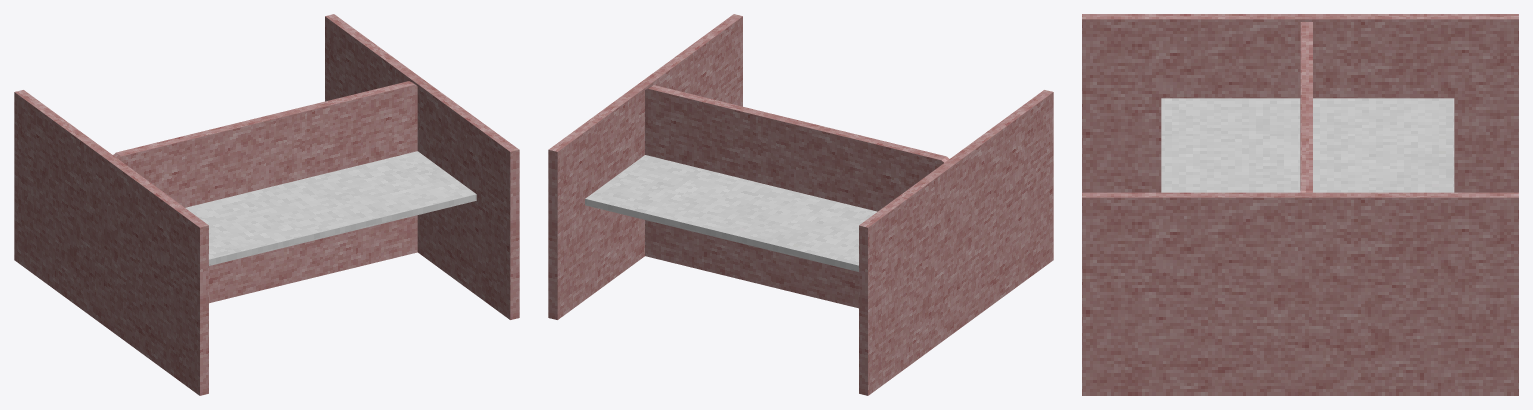
The model's file is divider_full_h_red_desk.glb.
The picture shows the model from 3 angles, left to right: view 1: azimuth 30°, elevation 25°; view 2: azimuth 150°, elevation 25°; view 3: azimuth 270°, elevation 25°; orthographic projection. The views are drawn at different scales.
Parts seen in each view (by area): view 1: divider_full_h_red_desk; view 2: divider_full_h_red_desk; view 3: divider_full_h_red_desk.
Part boxes in pixels (x1,y1,x2,y2): divider_full_h_red_desk: [14, 14, 519, 395]; divider_full_h_red_desk: [548, 14, 1053, 395]; divider_full_h_red_desk: [1082, 14, 1518, 395].
Size of the model in its own units: 2.99 by 1.5 by 3.
Materials: 1 (1 with a texture image).
